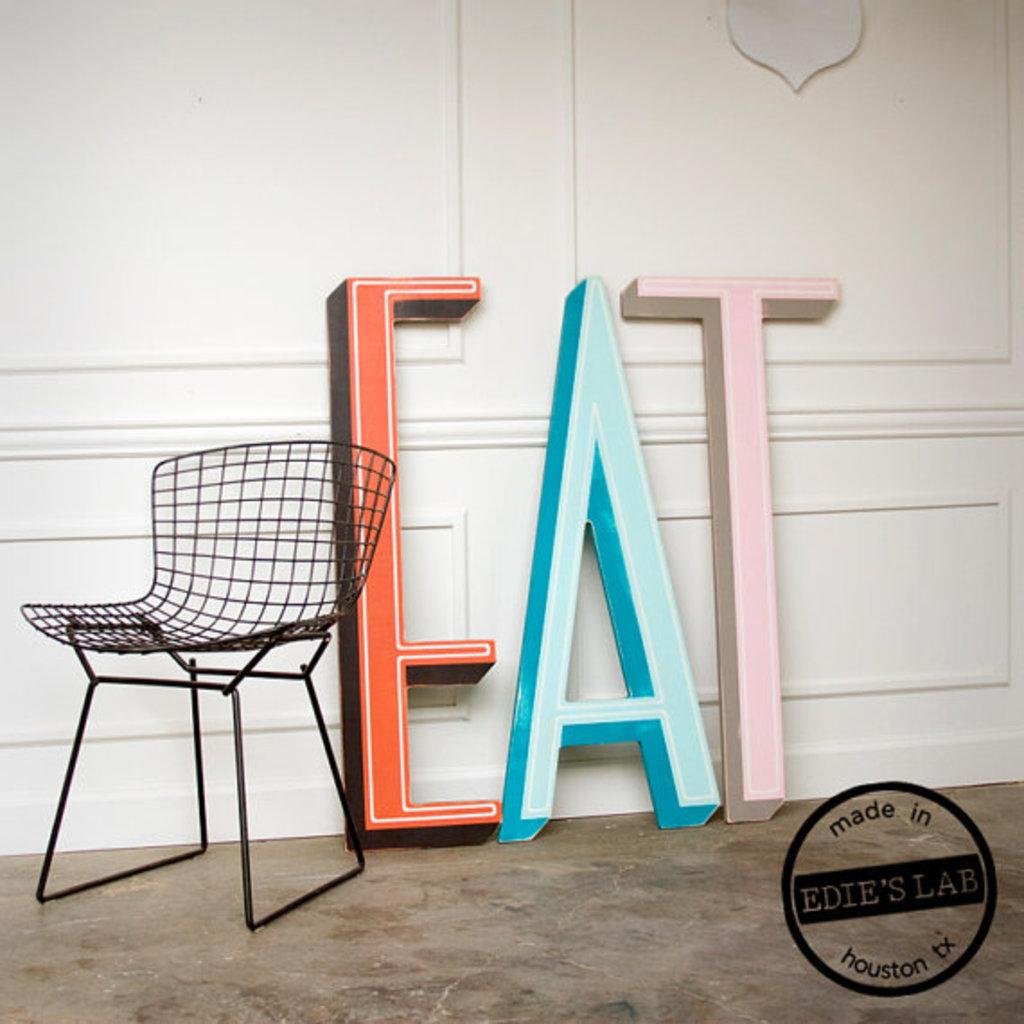Chair: (23, 392, 375, 936)
